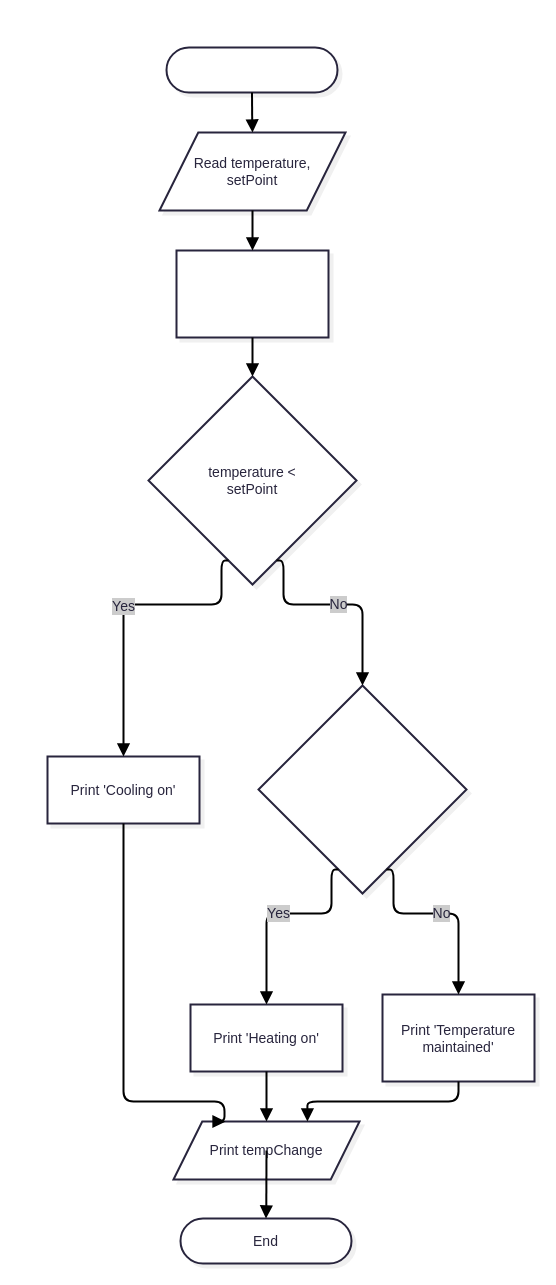
Image size: 556x1285. Some labels were removed from this diagram. The shapes that lost their labels are listed below. From the top down, each one's centre as x and y in pixels, then its label:
the point at 253,71: Start
the point at 254,295: tempChange = temperature - setPoint
the point at 364,791: temperature > setPoint
